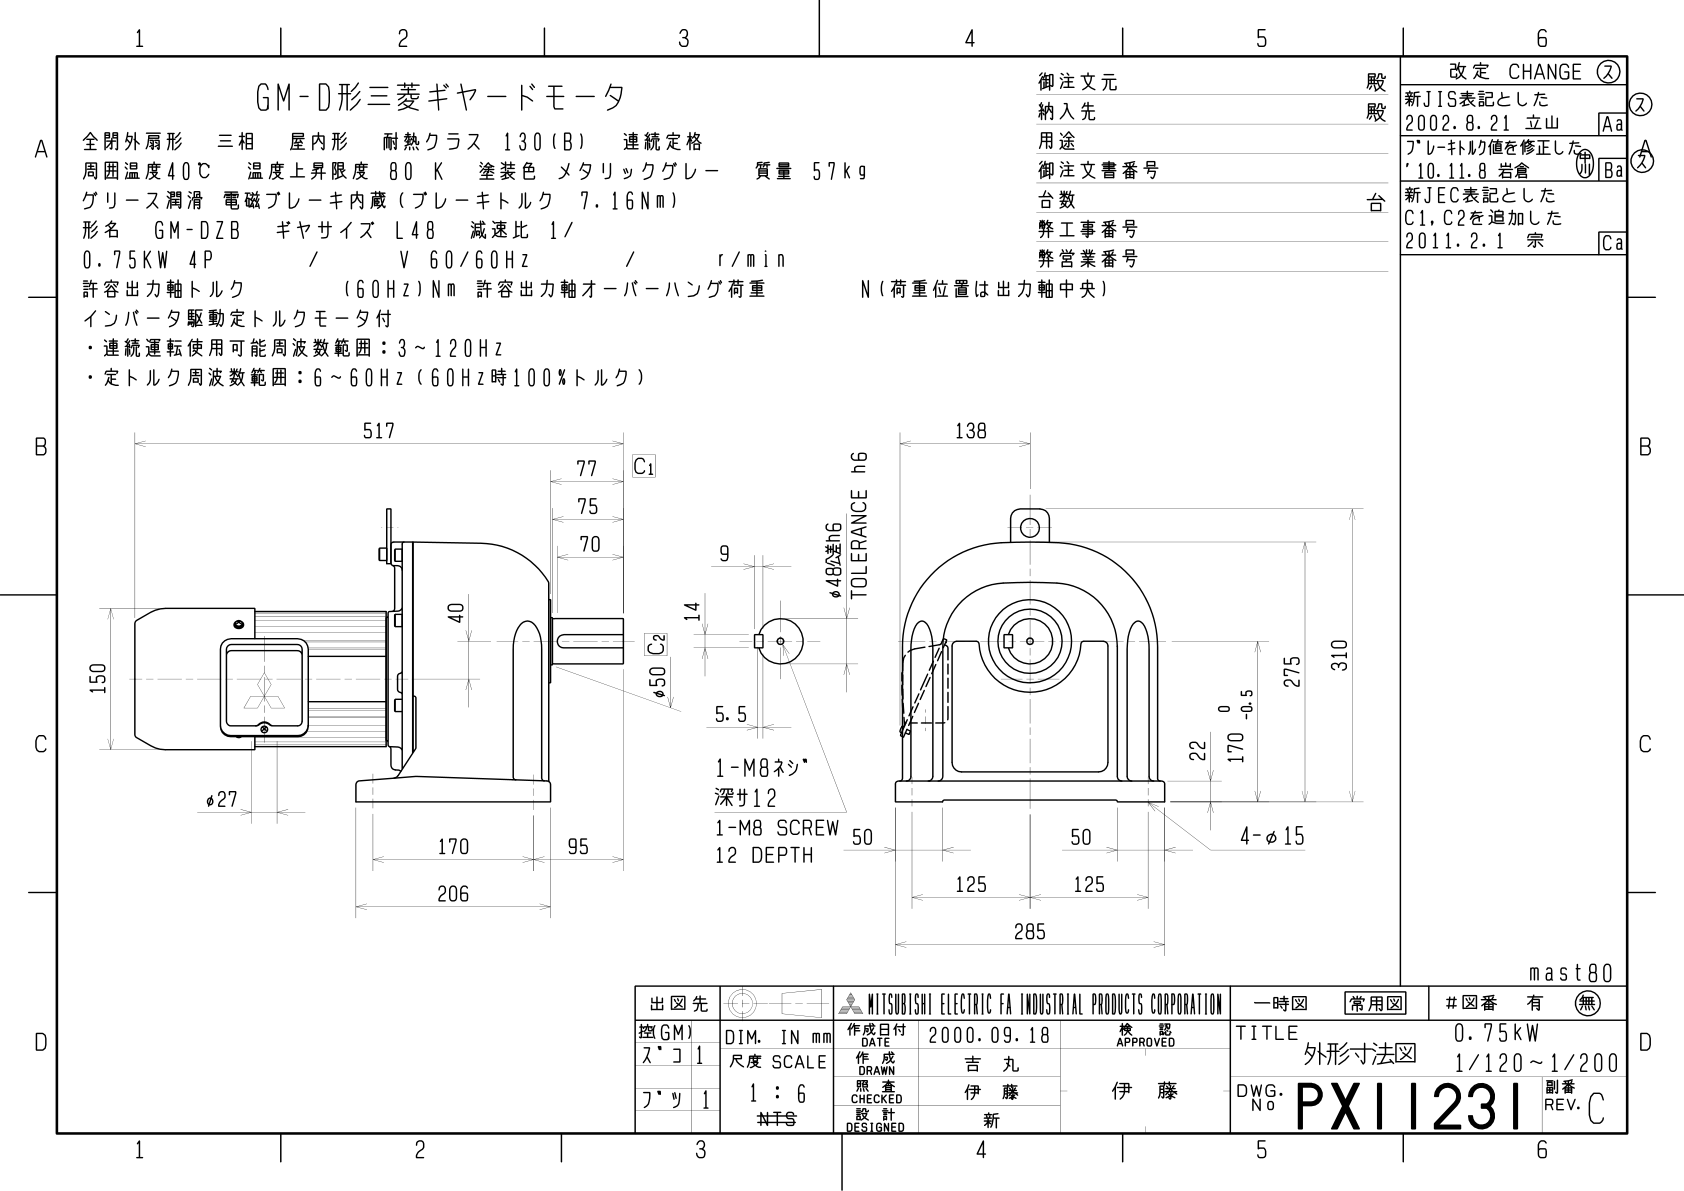GM_D_インバータ屋内_三相_脚: (67, 400, 1377, 967)
